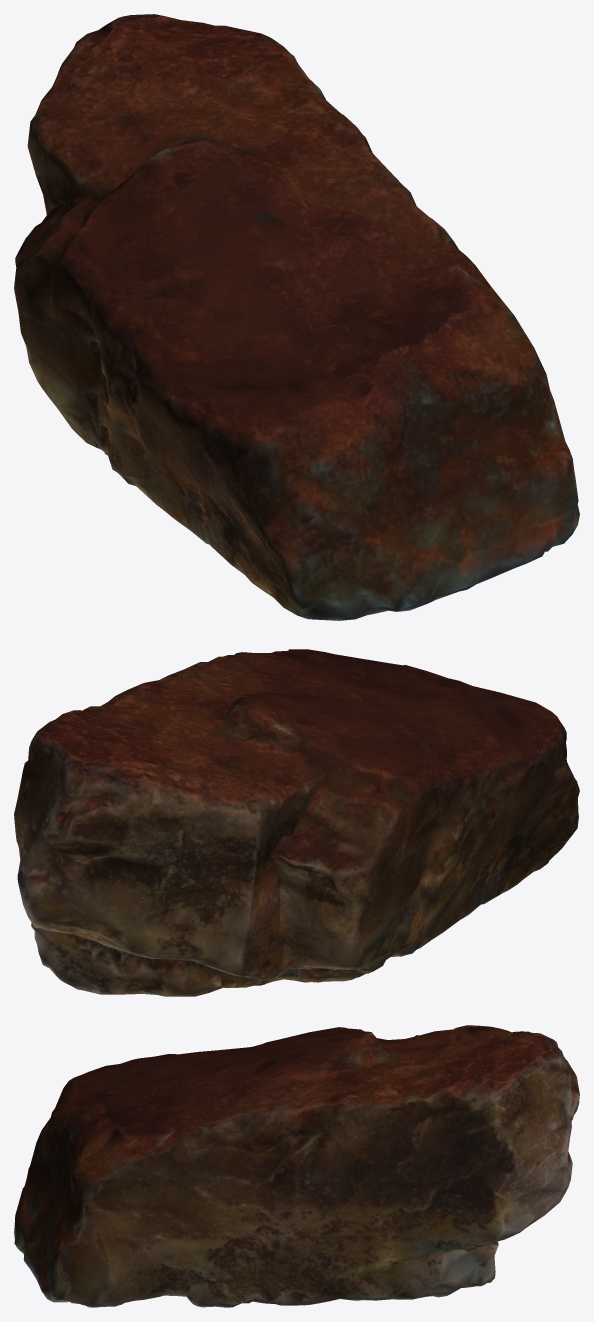
Rendered from rock_07.glb.
3 renders of one model, top to bottom at view 1: azimuth 30°, elevation 25°; view 2: azimuth 150°, elevation 25°; view 3: azimuth 270°, elevation 25°, orthographic. The views are drawn at different scales.
Visible parts, largest first — view 1: rock_07; view 2: rock_07; view 3: rock_07.
Boxes of the visible parts, x1,y1,x2,y2 form: rock_07: (14,14,579,620); rock_07: (14,649,579,996); rock_07: (14,1025,579,1307).
Bounding box in the file's own units: 0.1686 × 0.1437 × 0.3202.
Materials: 1 (1 with a texture image).
